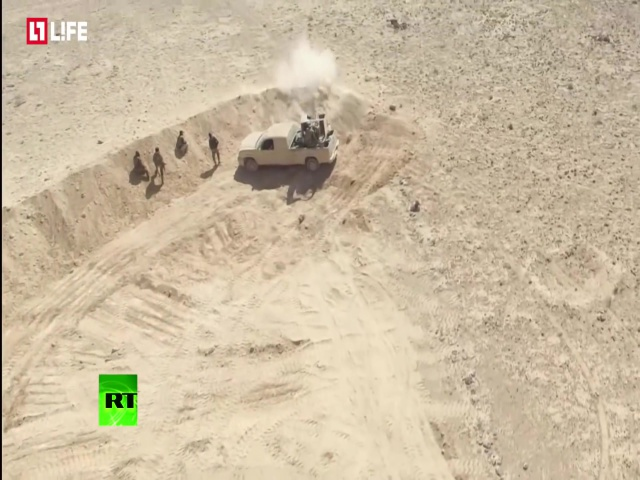person: (151, 145, 168, 187), (206, 130, 222, 168), (130, 148, 147, 180), (174, 130, 190, 156)
vehicle: (234, 120, 338, 170)
